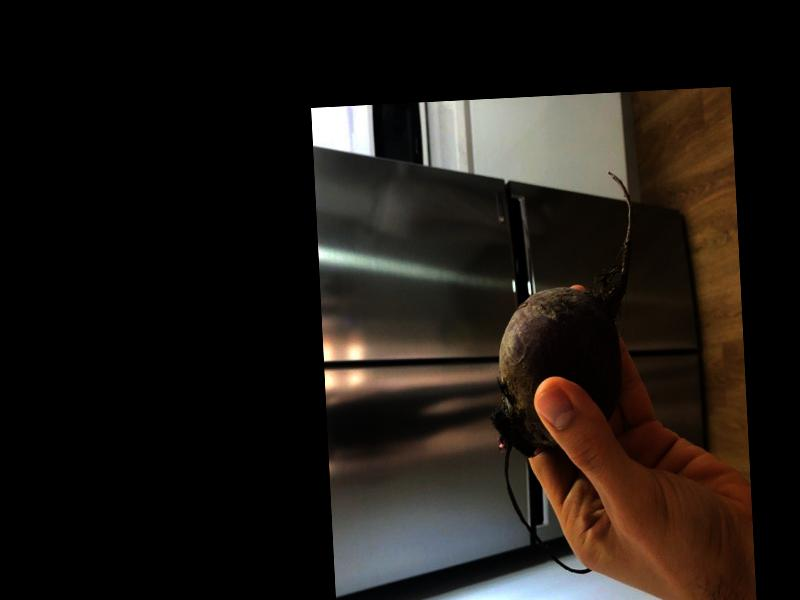Beet: (481, 167, 650, 577)
